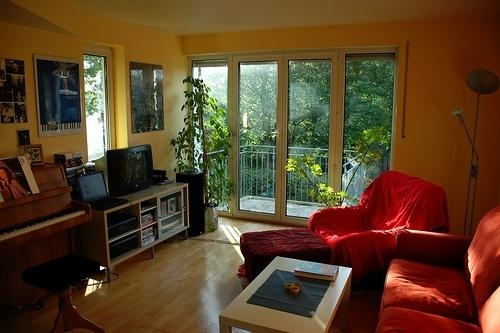chair: (309, 171, 450, 272)
sofa: (380, 204, 500, 333)
tvmonitor: (109, 146, 161, 192)
